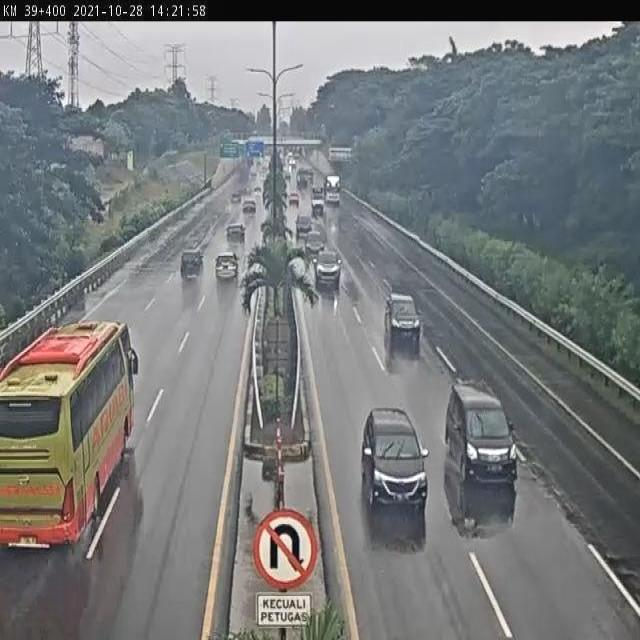Bus: (0, 321, 139, 555), (323, 172, 342, 205)
Car: (361, 406, 429, 508), (384, 293, 423, 347), (314, 250, 343, 287), (181, 248, 205, 280), (214, 252, 240, 280), (304, 230, 326, 256), (294, 212, 313, 239), (226, 223, 247, 242), (243, 200, 257, 214), (288, 192, 299, 207)
Truck: (310, 184, 325, 210), (294, 166, 308, 187)
Van: (444, 378, 518, 484)
